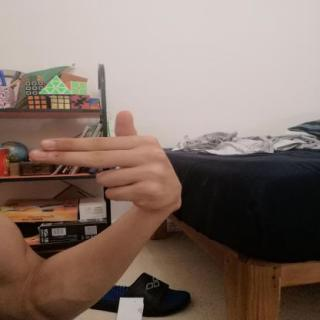GHAYN: (20, 103, 193, 220)
